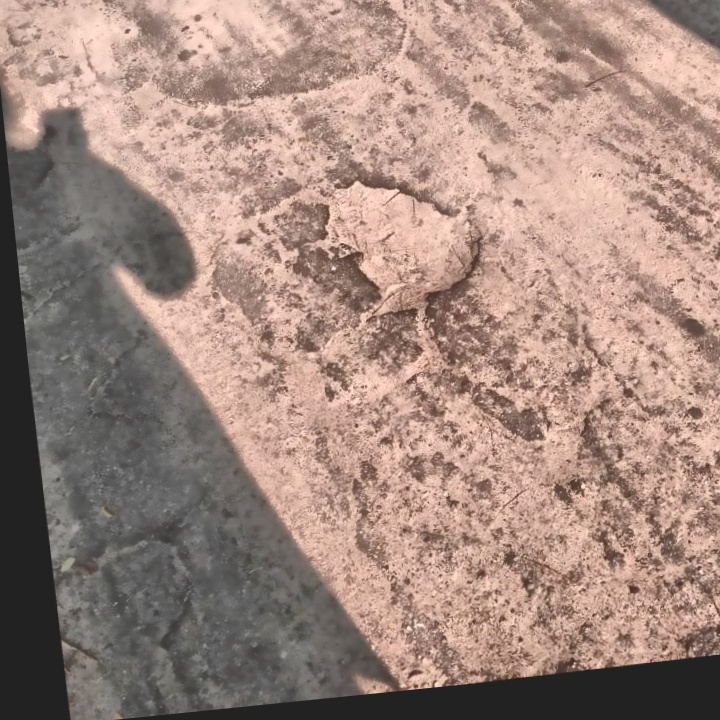pothole: (309, 160, 497, 324)
